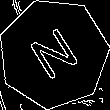N_SE: (23, 21, 84, 86)
